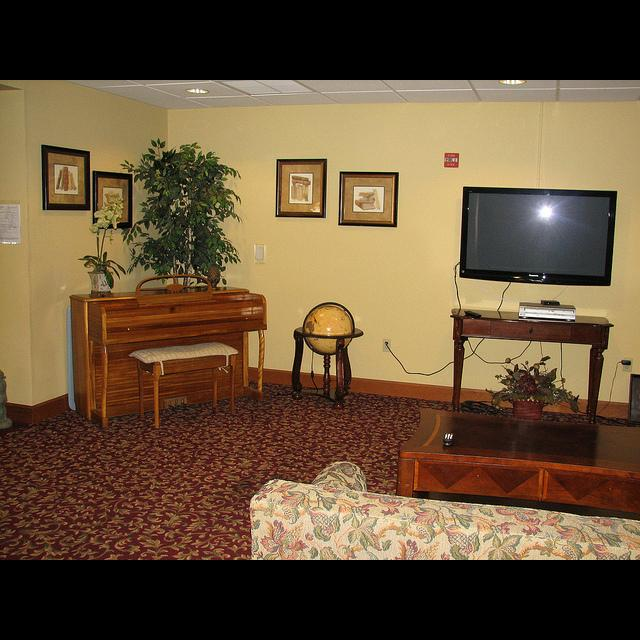Flat-Panel-TV: (458, 184, 620, 290)
TV-Remote-Control: (464, 310, 483, 319), (443, 432, 454, 446)
